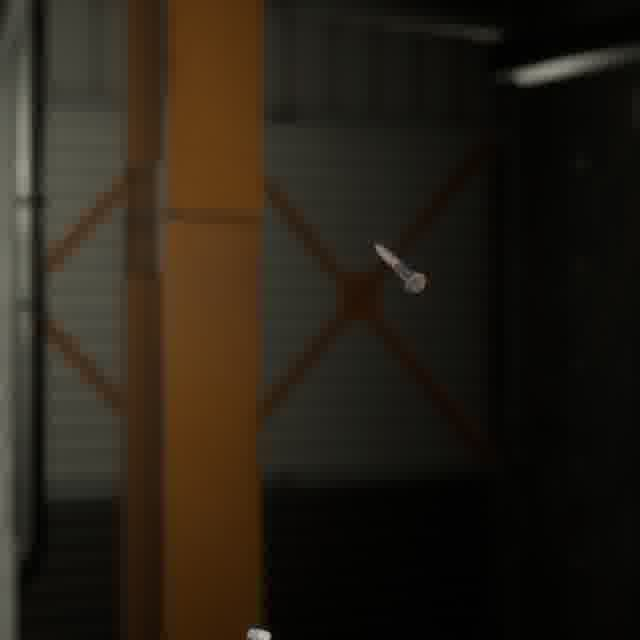bolt: (370, 239, 430, 298)
